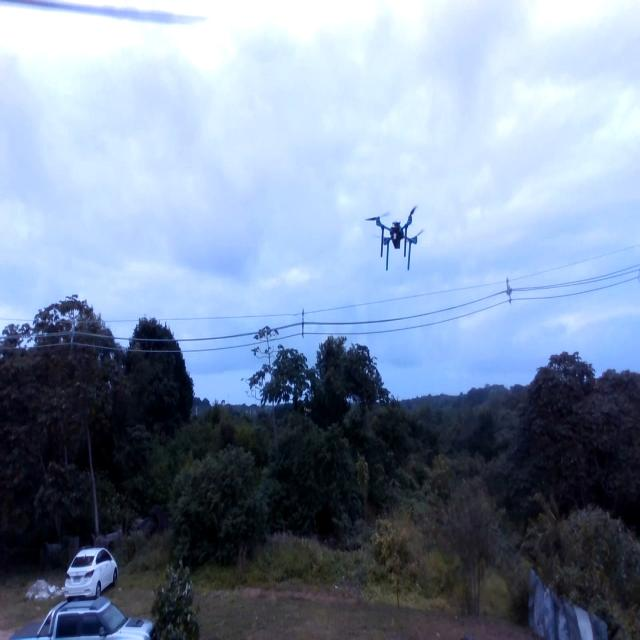-uav-: (359, 203, 438, 292)
